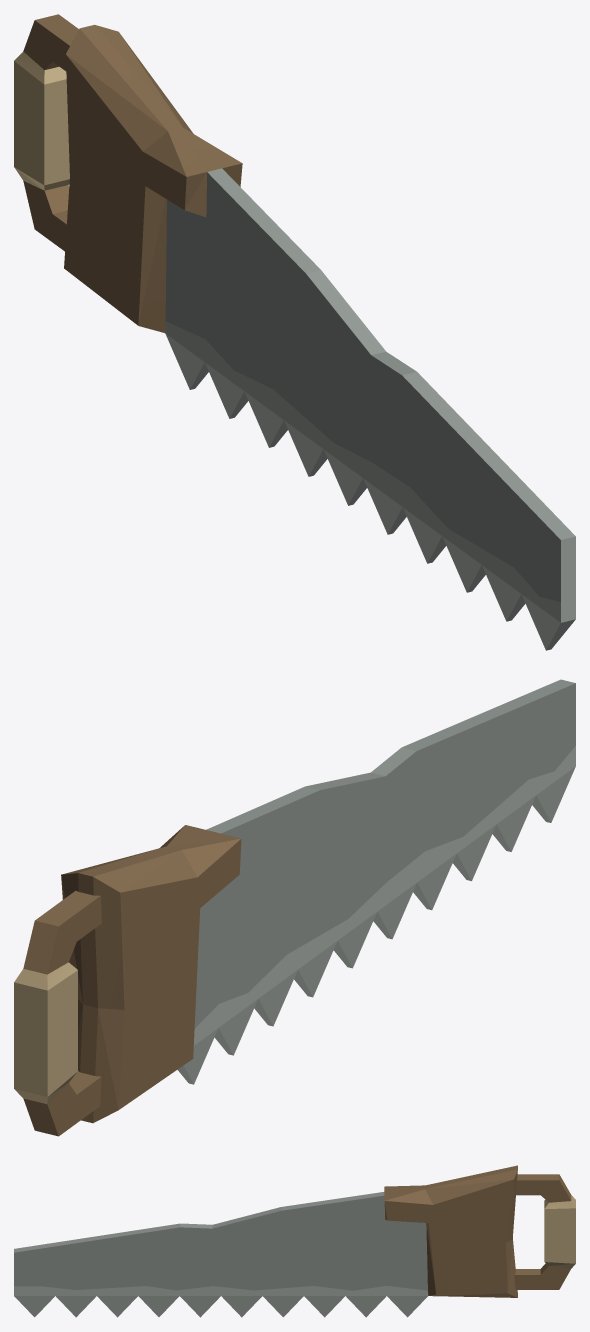
The model's file is Serrucho.glb.
3 views of the same model, one above another, from view 1: azimuth 30°, elevation 25°; view 2: azimuth 150°, elevation 25°; view 3: azimuth 270°, elevation 25° (orthographic). The views are drawn at different scales.
Visible parts, largest first — view 1: SM_Wep_Saw_01; view 2: SM_Wep_Saw_01; view 3: SM_Wep_Saw_01.
Boxes of the visible parts, x1,y1,x2,y2 form: SM_Wep_Saw_01: [14, 14, 575, 650]; SM_Wep_Saw_01: [14, 679, 575, 1136]; SM_Wep_Saw_01: [14, 1165, 575, 1317].
Size of the model in its own units: 0.0602 by 0.2932 by 0.9986.
Materials: 1 (1 with a texture image).
